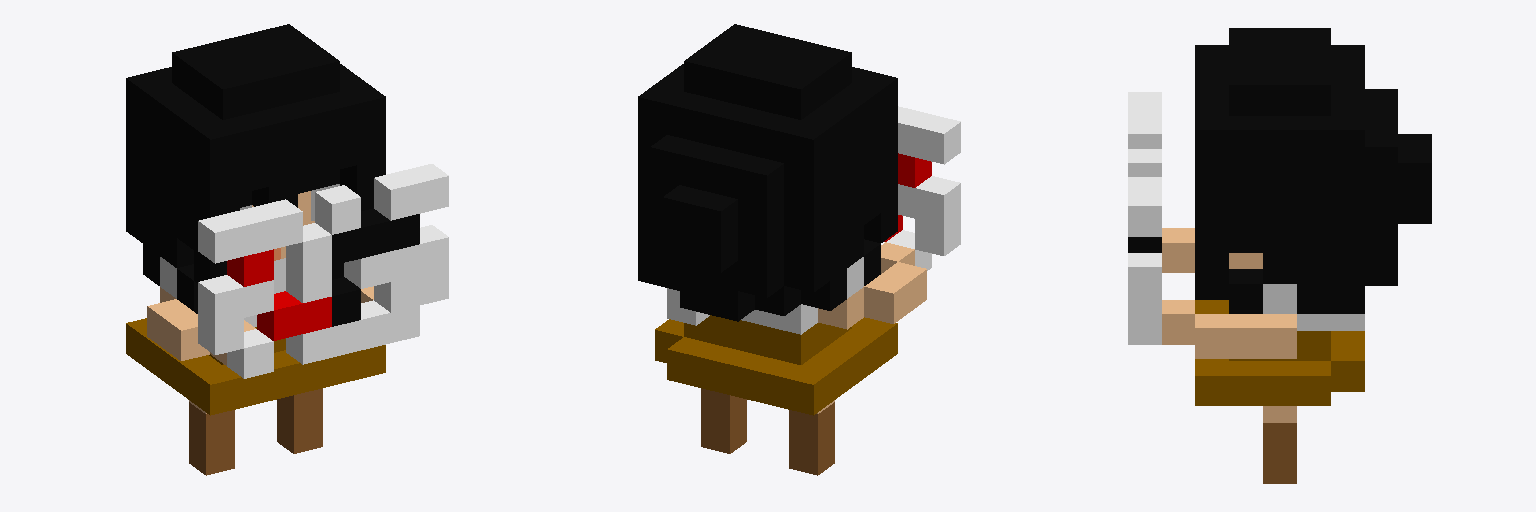
3 renders of one model, left to right at view 1: azimuth 30°, elevation 25°; view 2: azimuth 150°, elevation 25°; view 3: azimuth 270°, elevation 25°, orthographic.
Visible parts, largest first — view 1: object 1; view 2: object 1; view 3: object 1.
Part boxes in pixels (x1,y1,x2,y2): object 1: (126,24,448,475); object 1: (638,24,960,475); object 1: (1128,28,1431,483).
Size of the model in its own units: 0.8 by 1.3 by 0.9.
Materials: 1 (1 with a texture image).